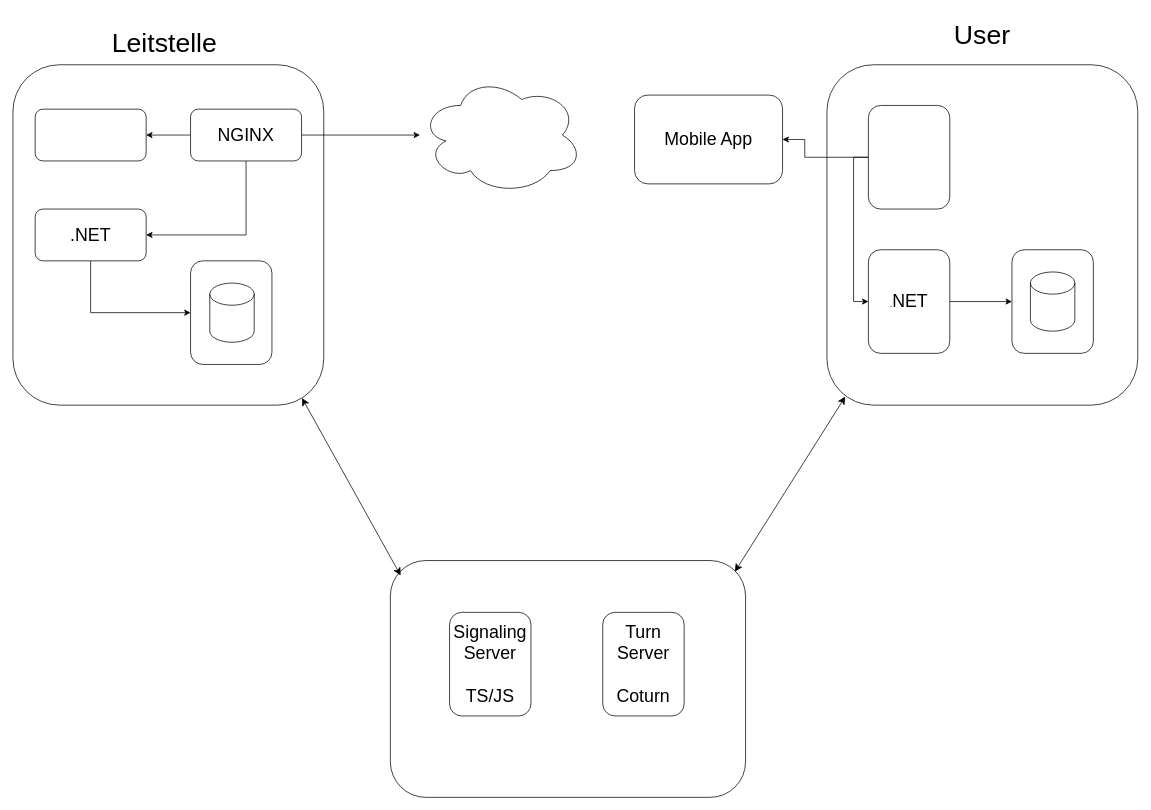
Some shapes in this 1151 by 810 pixel diagram are drawn without their labels. The centre of each missing label's shape, as x and y in pixels:
"Angular" goes at pixel 90 134.
"Browser" goes at pixel 501 134.
"Flutter" goes at pixel 909 157.
